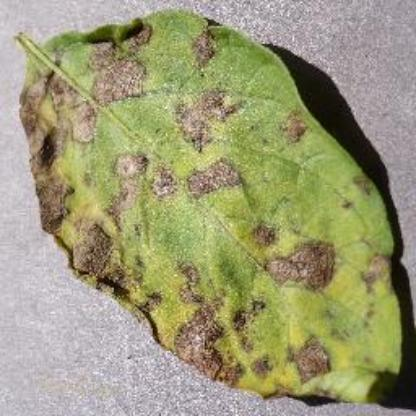Early-Blight: (10, 6, 408, 402)
